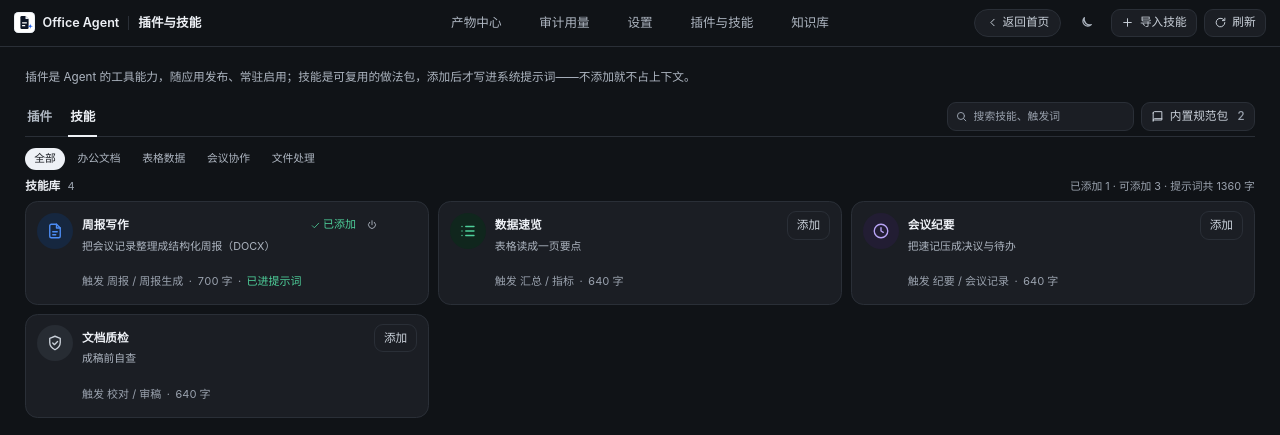
Test case: SkillsPage › 搜索按名称/描述/触发词过滤
This screenshot has width=1280, height=435.
Expected: the element with test id "skills-grid" is shown, [25,201,1255,418]
Note: 触发词也参与匹配：文档质检的名字/描述里没有「校对」
Step 1. Type "校对" into the field labelled "搜索技能" → (1050, 116), box [974,108,1126,124]
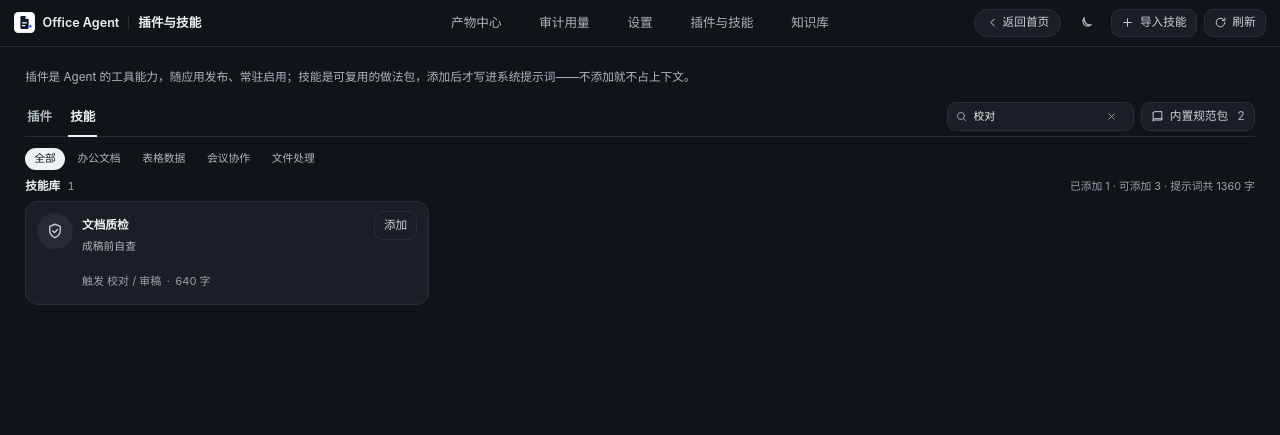
Expected: the heading "文档质检" is shown, [82,218,129,232]
Expected: the heading "会议纪要" is gone
Step 2. Replace the text in the field named "搜索技能" with "表格" → (1033, 116), box [974,108,1092,124]
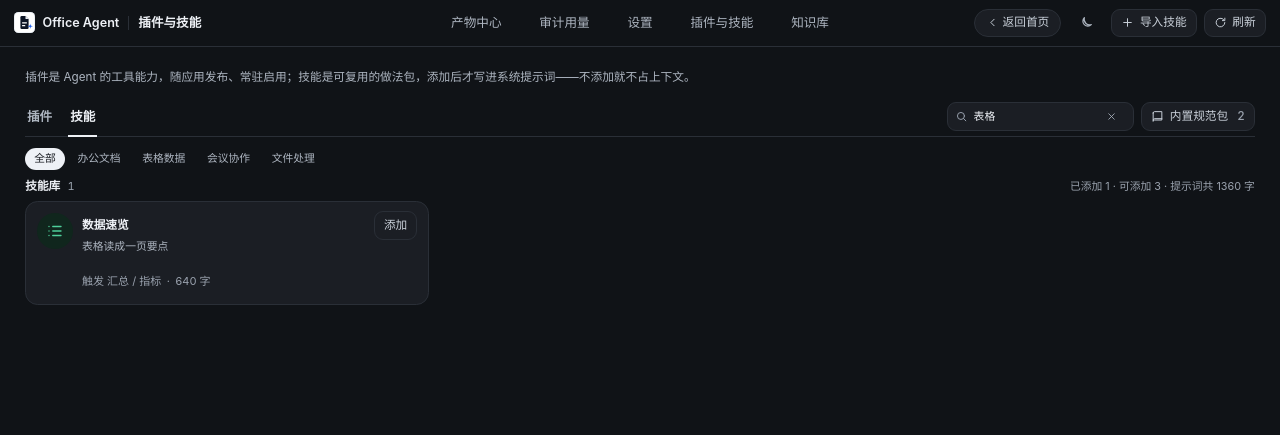
Expected: the heading "数据速览" is shown, [82,218,129,232]
Expected: the heading "文档质检" is gone
Step 3. Replace the text in the field named "搜索技能" with "zzz-不存在" → (1033, 116), box [974,108,1092,124]
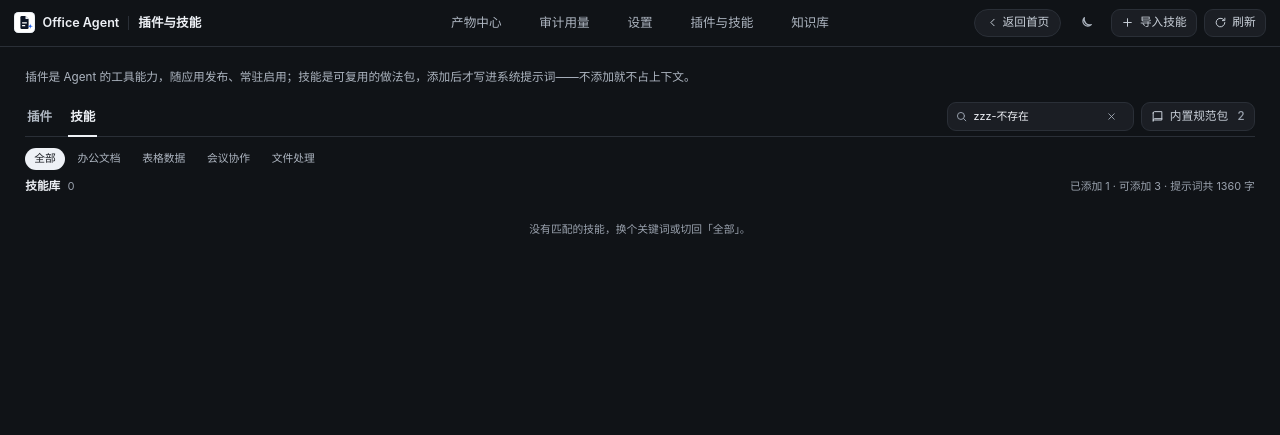
Expected: the text "没有匹配的技能，换个关键词或切回「全部」。" is shown, [529,223,751,236]
